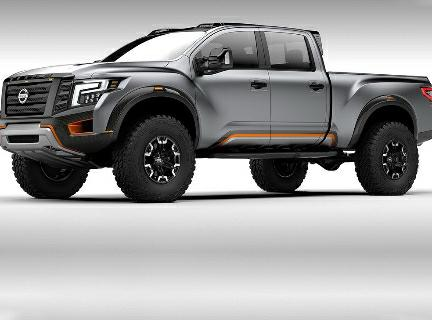日产-Titan: (2, 15, 432, 210)
